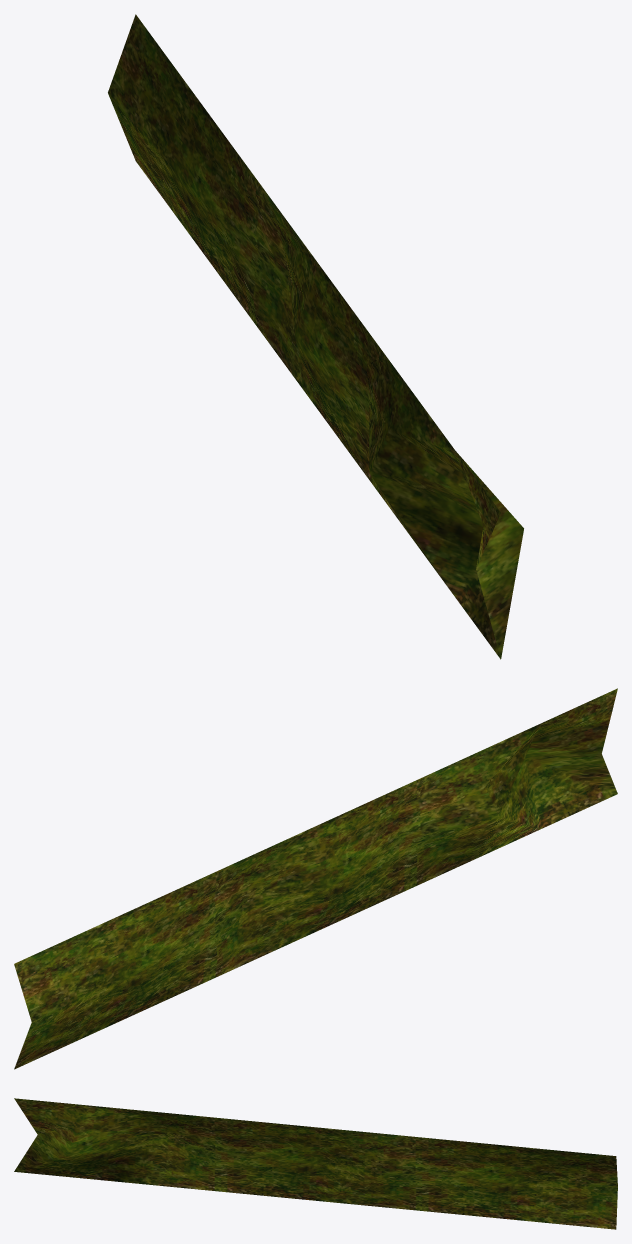
The model's file is TROLLHOLE02_ZRM_PSURF111.fbx.
3 renders of one model, top to bottom at view 1: azimuth 30°, elevation 25°; view 2: azimuth 150°, elevation 25°; view 3: azimuth 270°, elevation 25°, orthographic. The views are drawn at different scales.
Parts seen in each view (by area): view 1: TROLLHOLE02_ZRM_PSURF111; view 2: TROLLHOLE02_ZRM_PSURF111; view 3: TROLLHOLE02_ZRM_PSURF111.
Part boxes in pixels (<box>): TROLLHOLE02_ZRM_PSURF111: <box>108,14,523,659</box>; TROLLHOLE02_ZRM_PSURF111: <box>14,688,617,1069</box>; TROLLHOLE02_ZRM_PSURF111: <box>14,1098,617,1229</box>.
Bounding box in the file's own units: 16961 × 10000 × 74468.
Materials: 1 (1 with a texture image).
